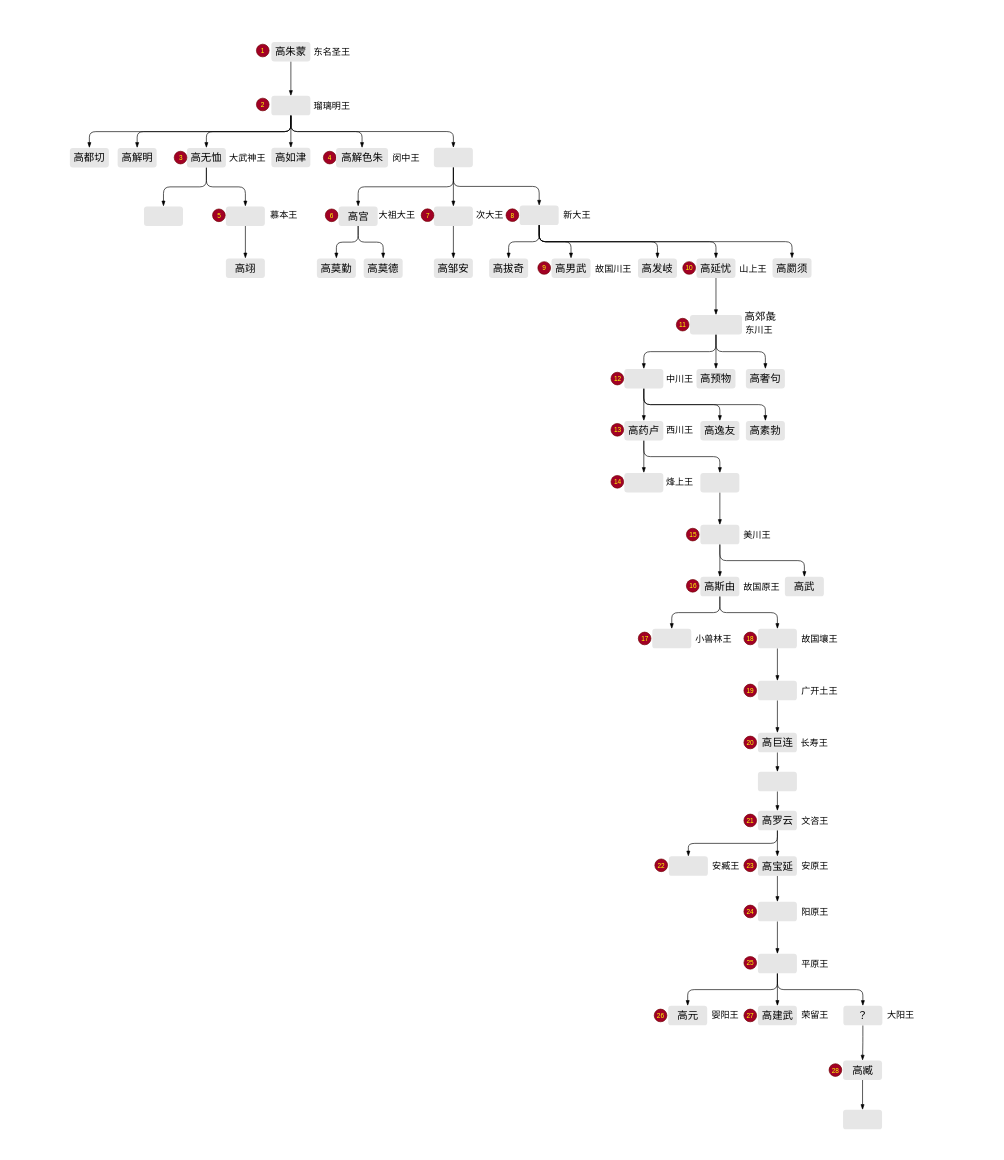
The diagram is 1004 pixels wide and 1160 high, and some of its shapes have lost their labels. Each missing label, with the centre of its shape:
高丘夫: the point at 671,638
高乙弗: the point at 719,534
高伊连: the point at 777,638
高伯固: the point at 538,215
高兴安: the point at 688,866
高再思: the point at 453,157
高助多: the point at 777,781
高咄固: the point at 719,482
高好童: the point at 163,216
高平成: the point at 777,911
高忧位居: the point at 716,324
高然弗: the point at 643,378
高相夫: the point at 643,482
高福男: the point at 862,1119
高类利: the point at 290,105
高解忧: the point at 245,216
高谈德: the point at 777,690
高遂成: the point at 453,216
高阳成: the point at 777,963
